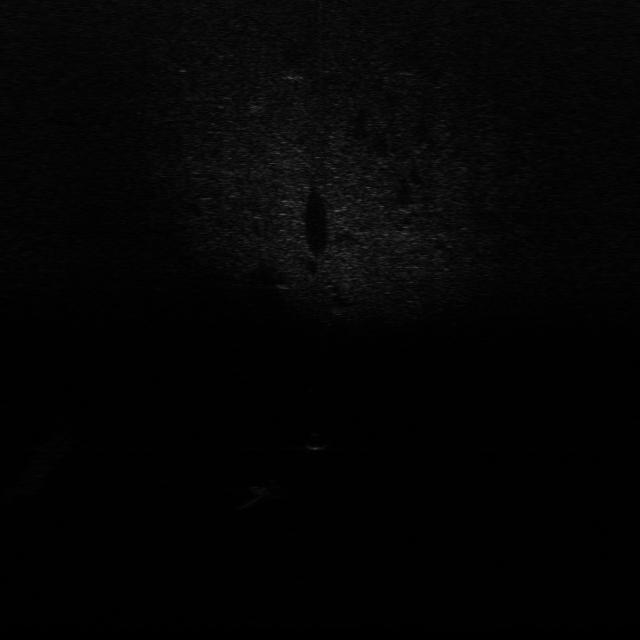ball: (307, 428, 331, 452)
square cage: (251, 476, 288, 502)
